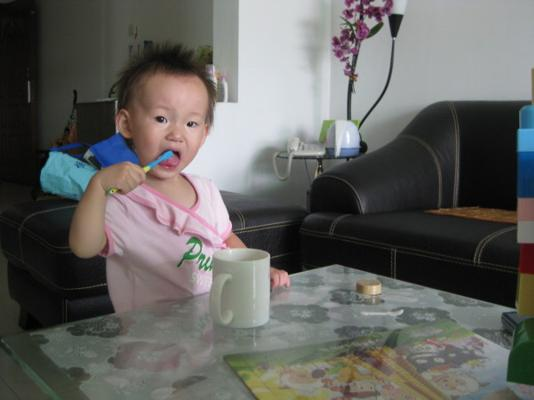person: (68, 42, 291, 315)
